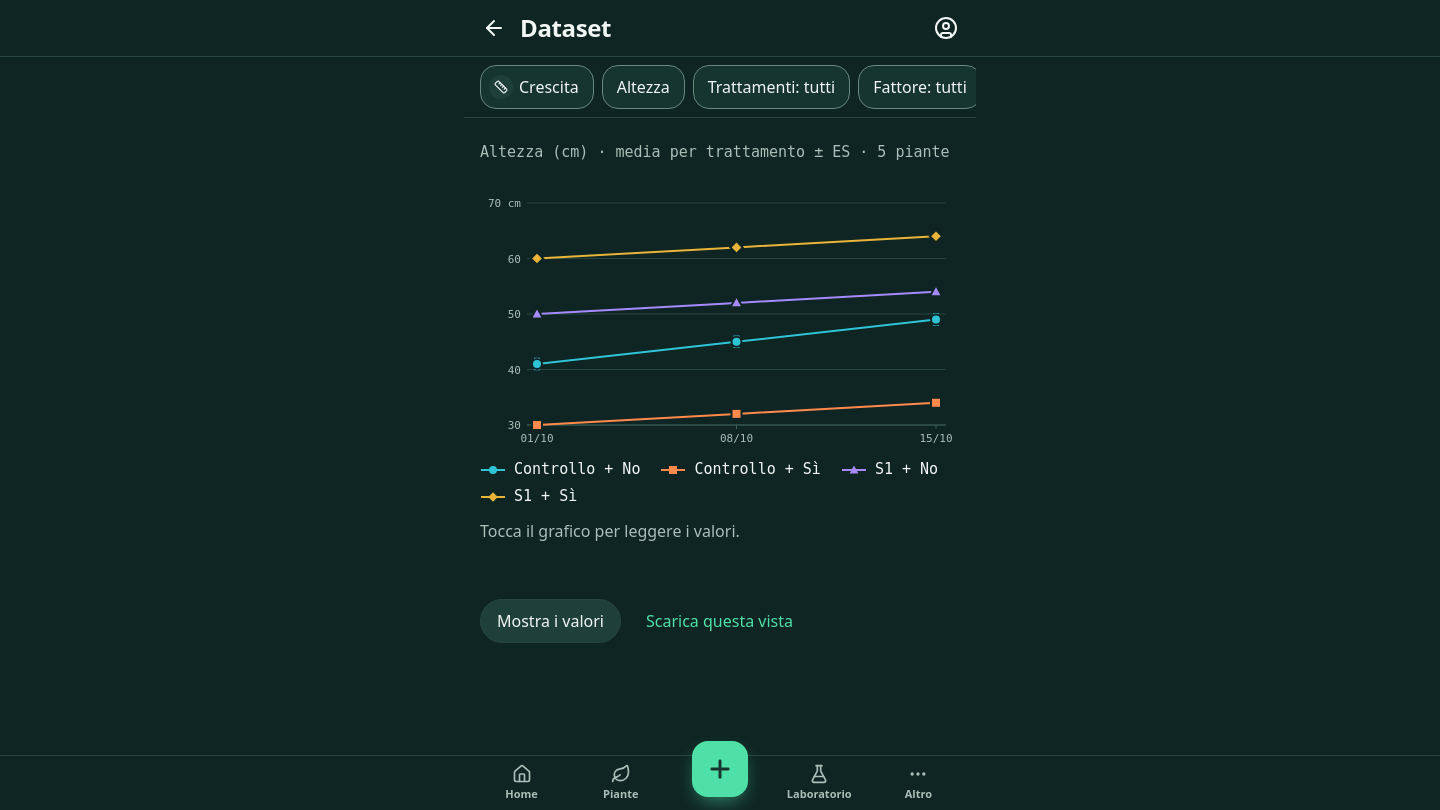
Test: Dataset: scelta singola con le frecce › le frecce spostano la scelta senza chiudere il pannello e il fuoco segue; un tocco la conferma e chiude
This screenshot has width=1440, height=810.
Click the button "Crescita": coordinates (537, 87) [480, 65, 594, 109]
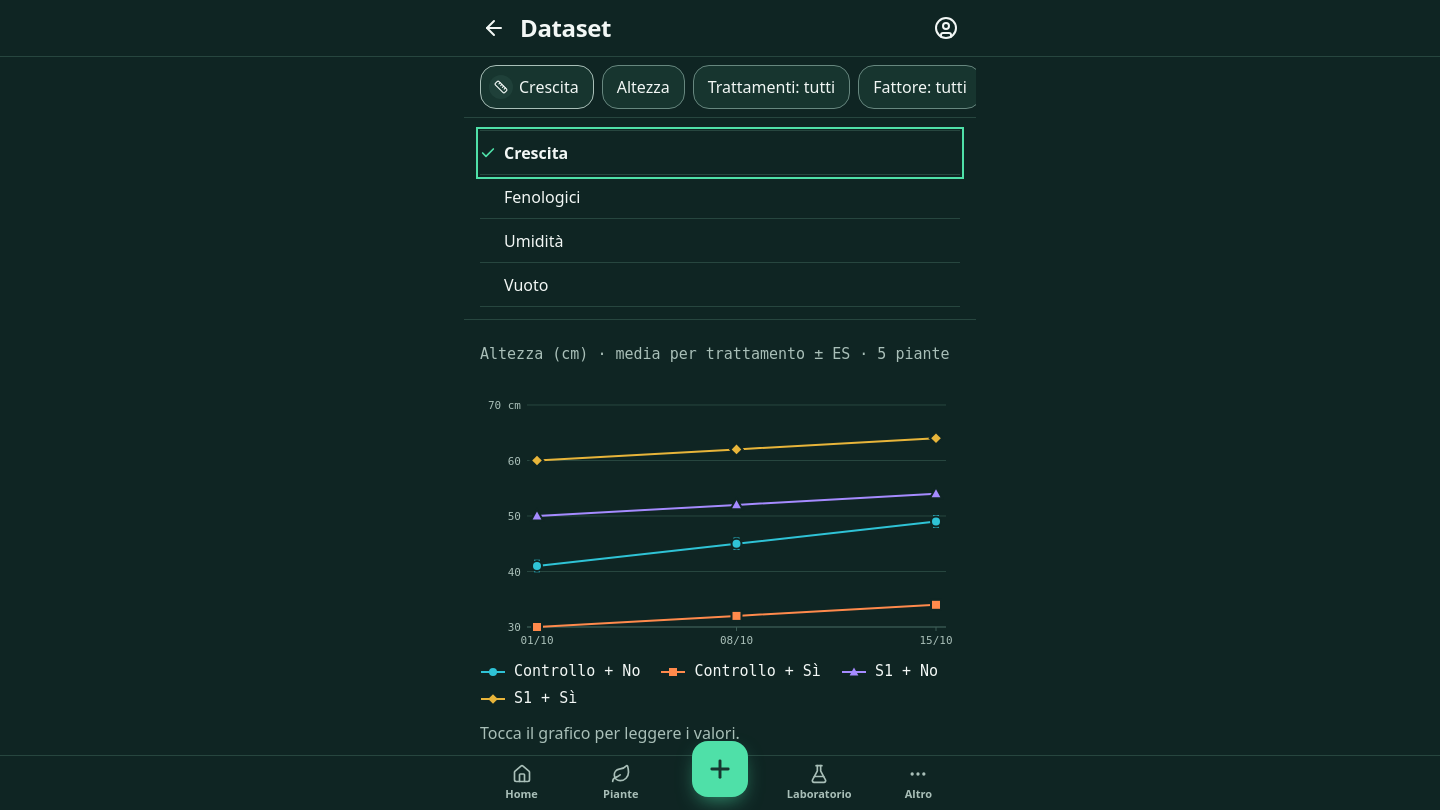
Press Arrowdown
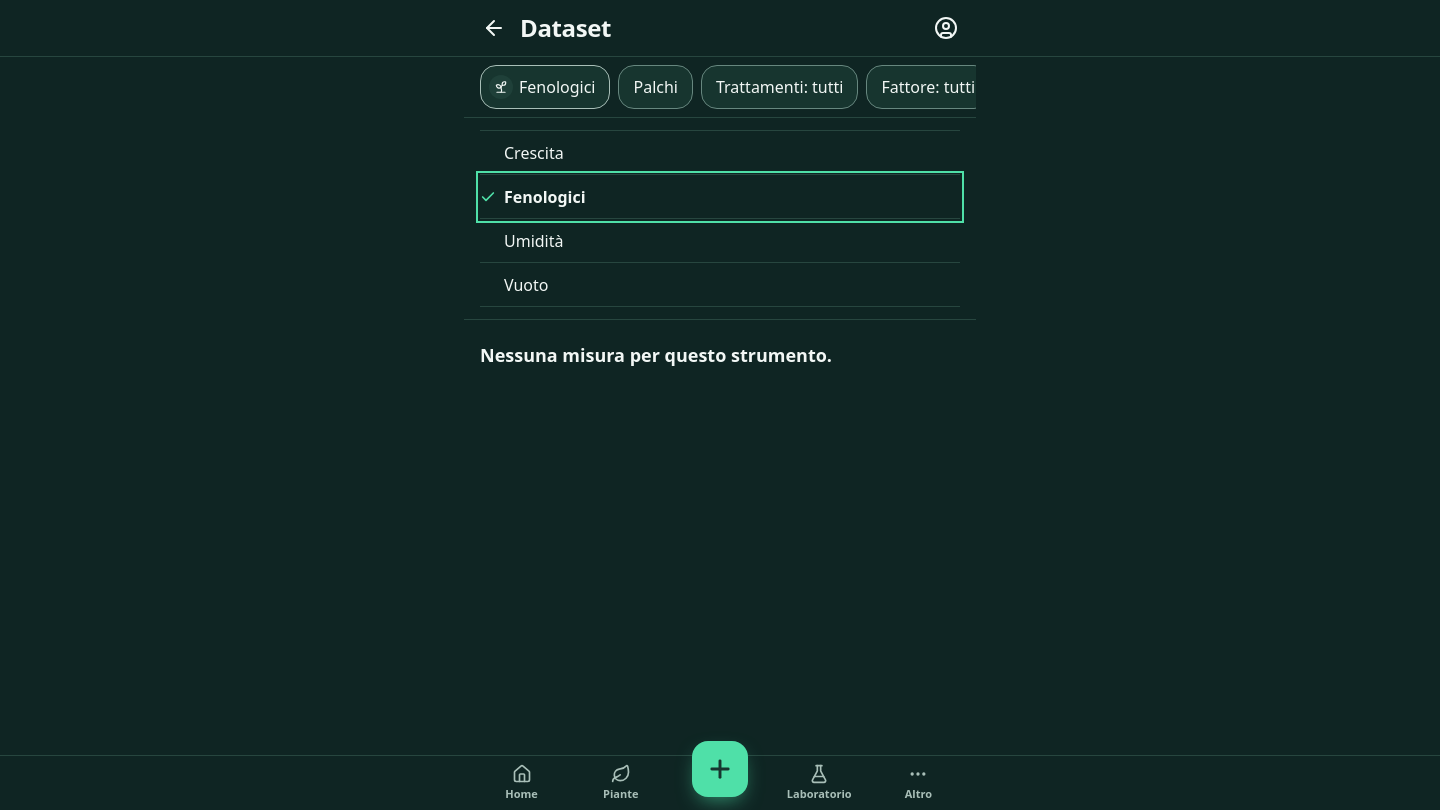
Check: the element named "Strumento" is shown, box [464, 117, 976, 319]
Press Arrowup
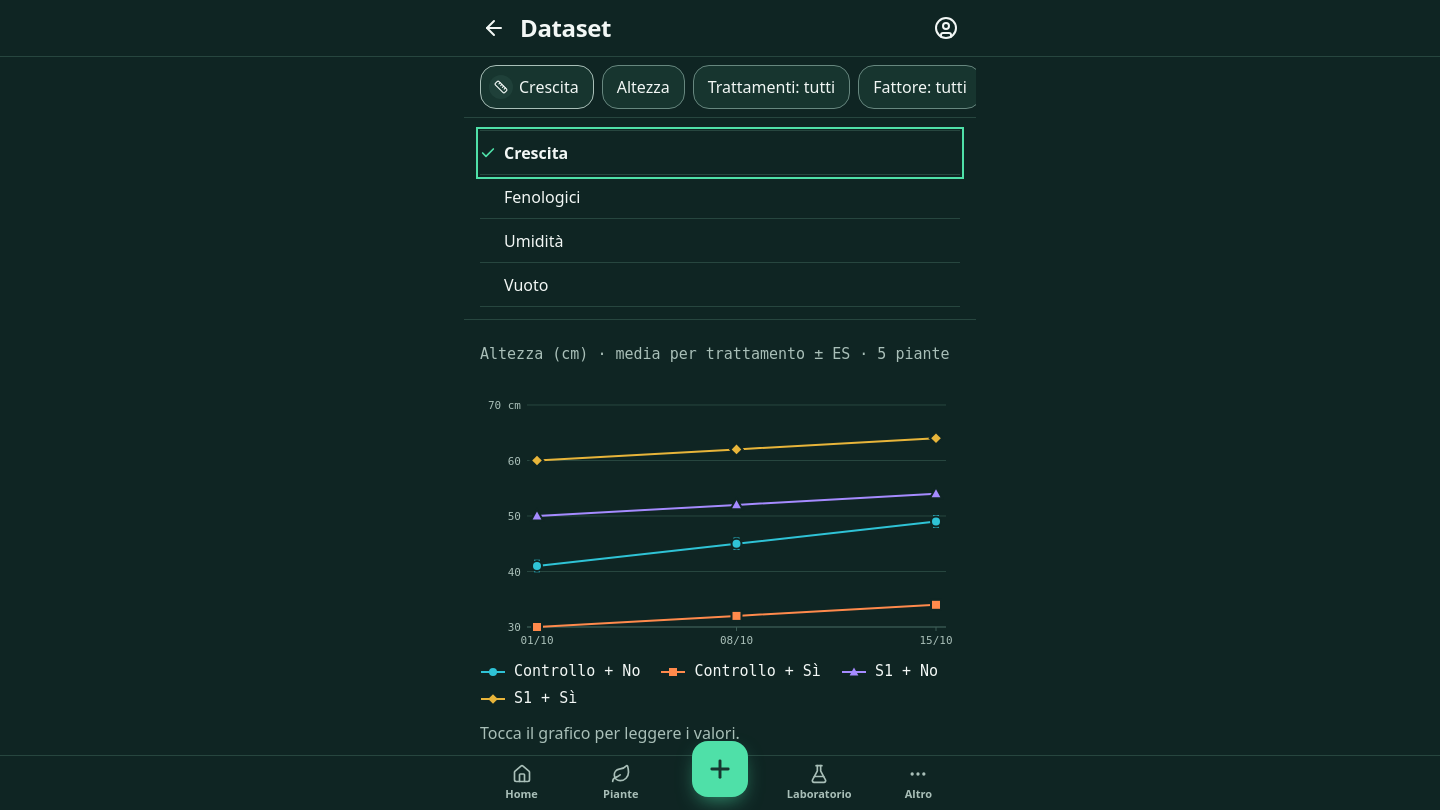
Click the radio button labelled "Crescita": coordinates (536, 152) [480, 131, 960, 175]
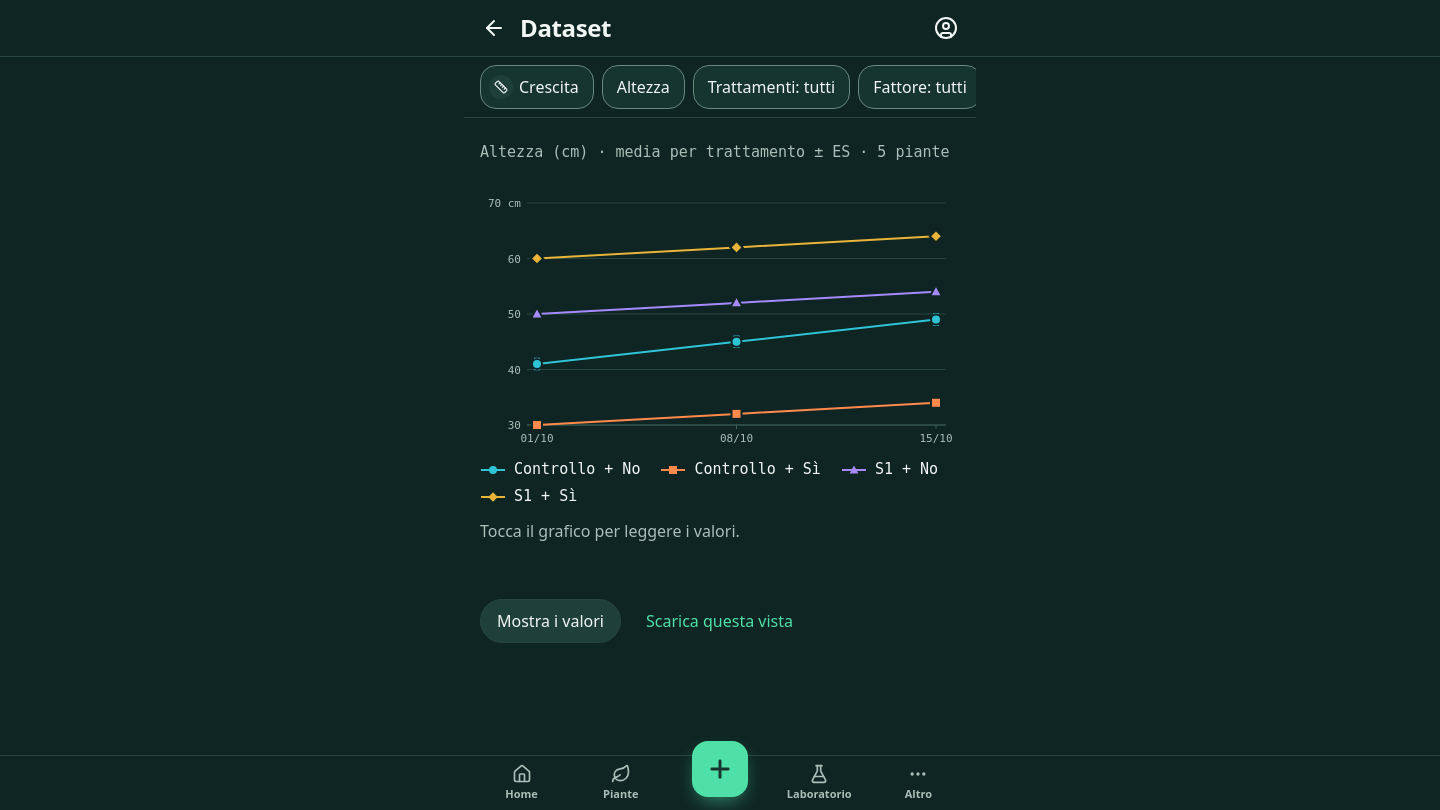
Check: the element "Strumento" is gone
